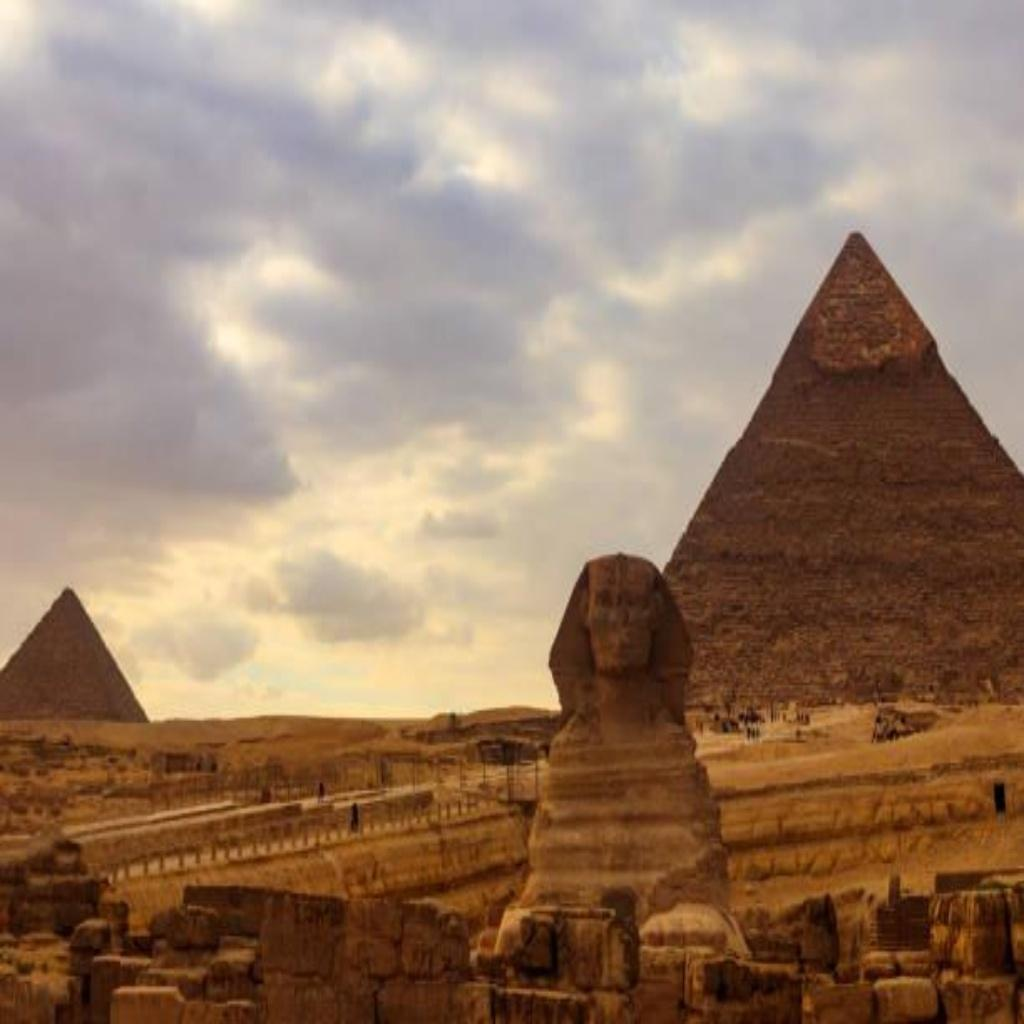Sphinx: (492, 547, 750, 966)
